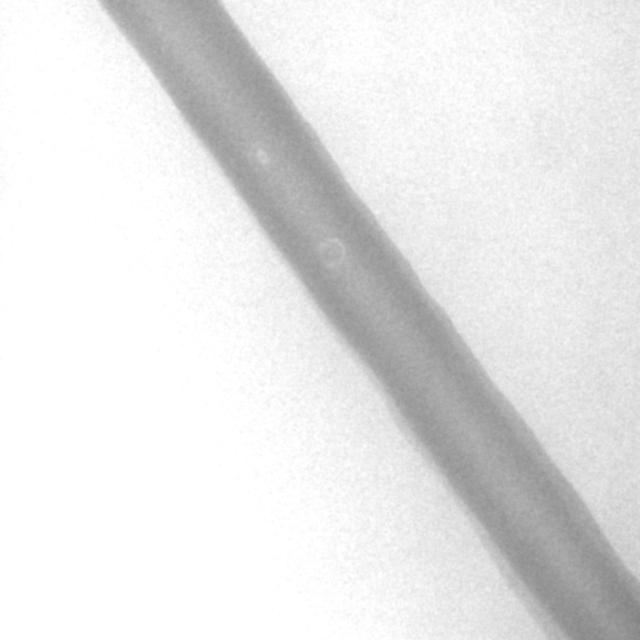hollow bead: (316, 236, 346, 271)
